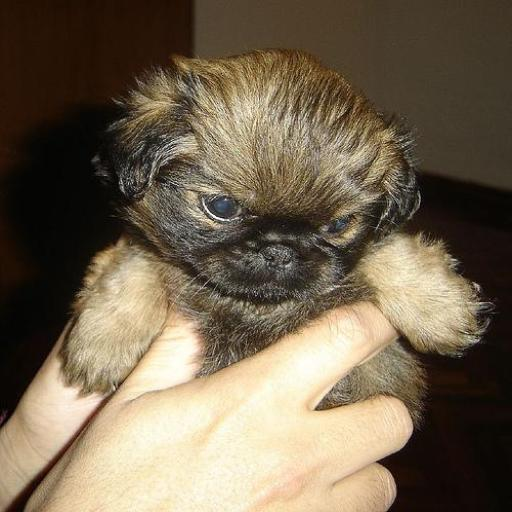dog_face: (100, 51, 411, 297)
